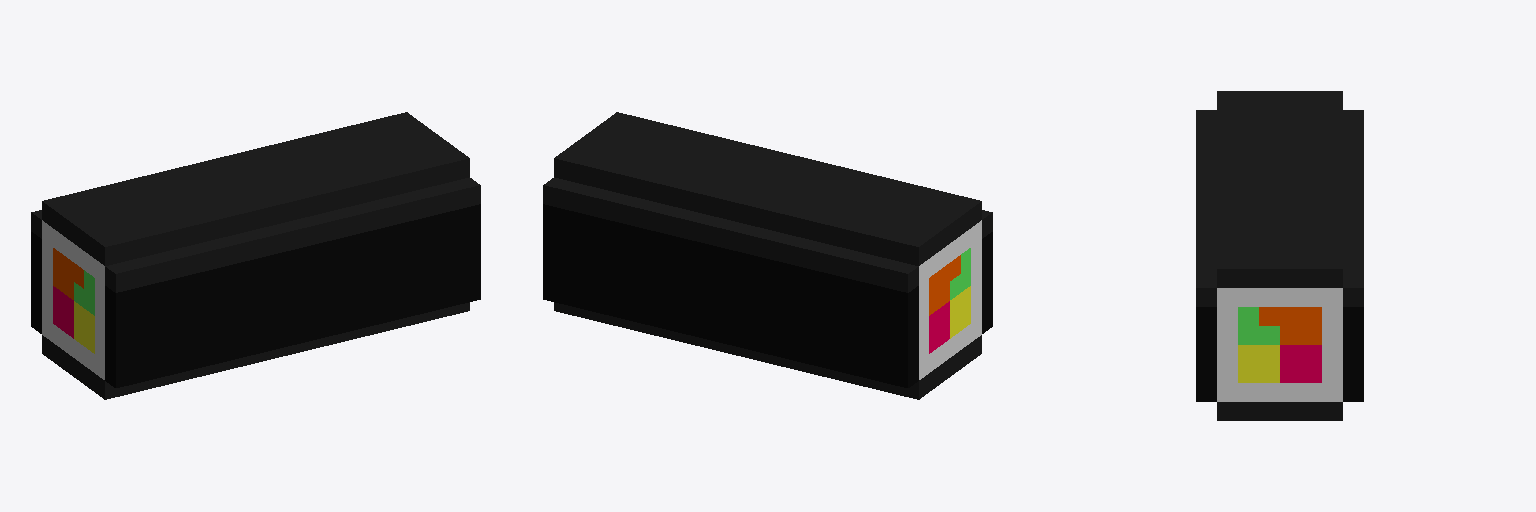
3 views of the same model, side by side, from view 1: azimuth 30°, elevation 25°; view 2: azimuth 150°, elevation 25°; view 3: azimuth 270°, elevation 25° (orthographic).
Visible parts, largest first — view 1: object 1; view 2: object 1; view 3: object 1.
Boxes of the visible parts, <box> form: object 1: <box>31,112,480,399</box>; object 1: <box>543,112,992,399</box>; object 1: <box>1196,91,1363,420</box>.
Bounding box in the file's own units: 2 × 0.8 × 0.8.
Materials: 1 (1 with a texture image).